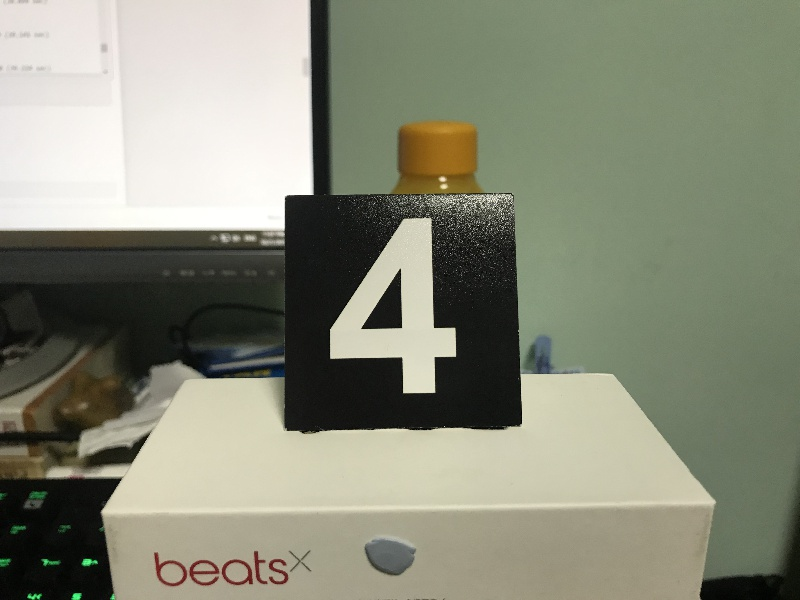Four-9: (288, 197, 513, 425)
